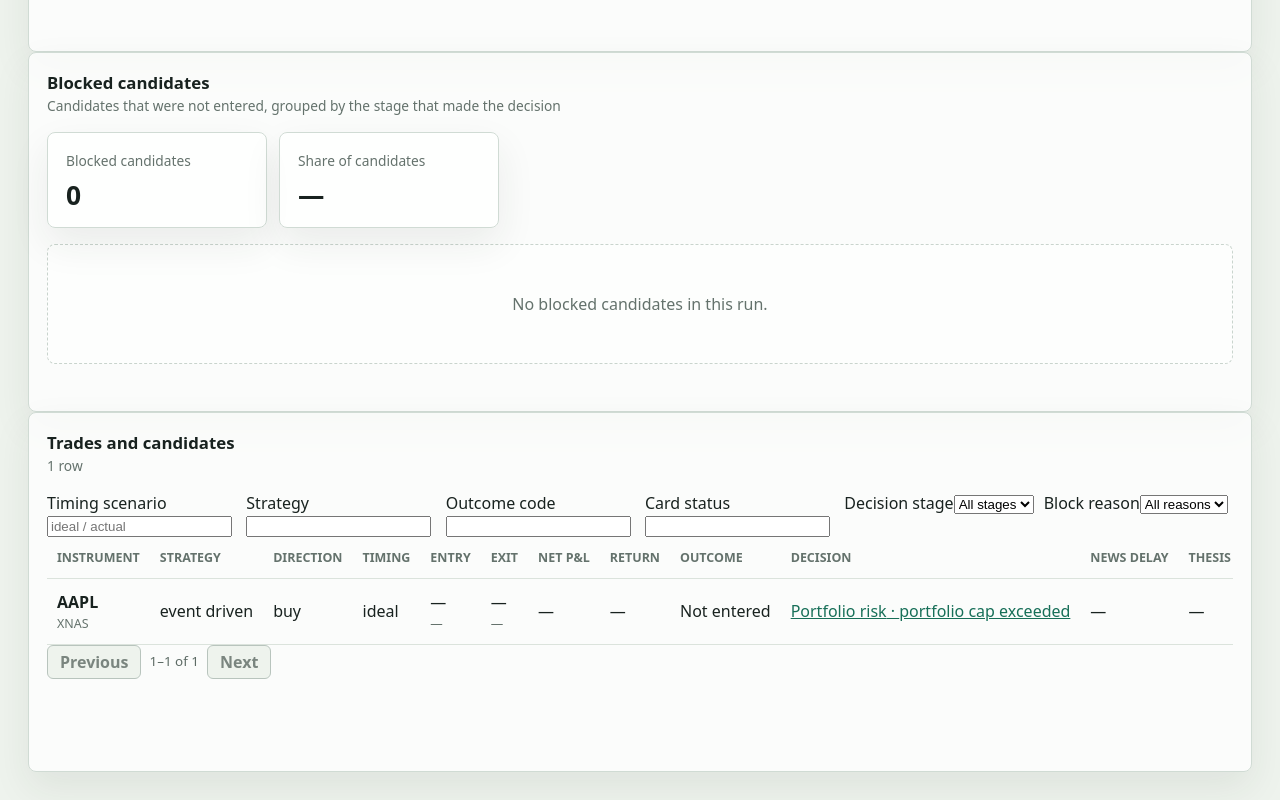
Scenario: BacktesterTab › uses the recorded check for exact portfolio-risk prose
This screenshot has width=1280, height=800.
(page scrolled)
Click the button "Portfolio risk · portfolio cap exceeded" at (931, 611), box 791,600 -> 1070,622
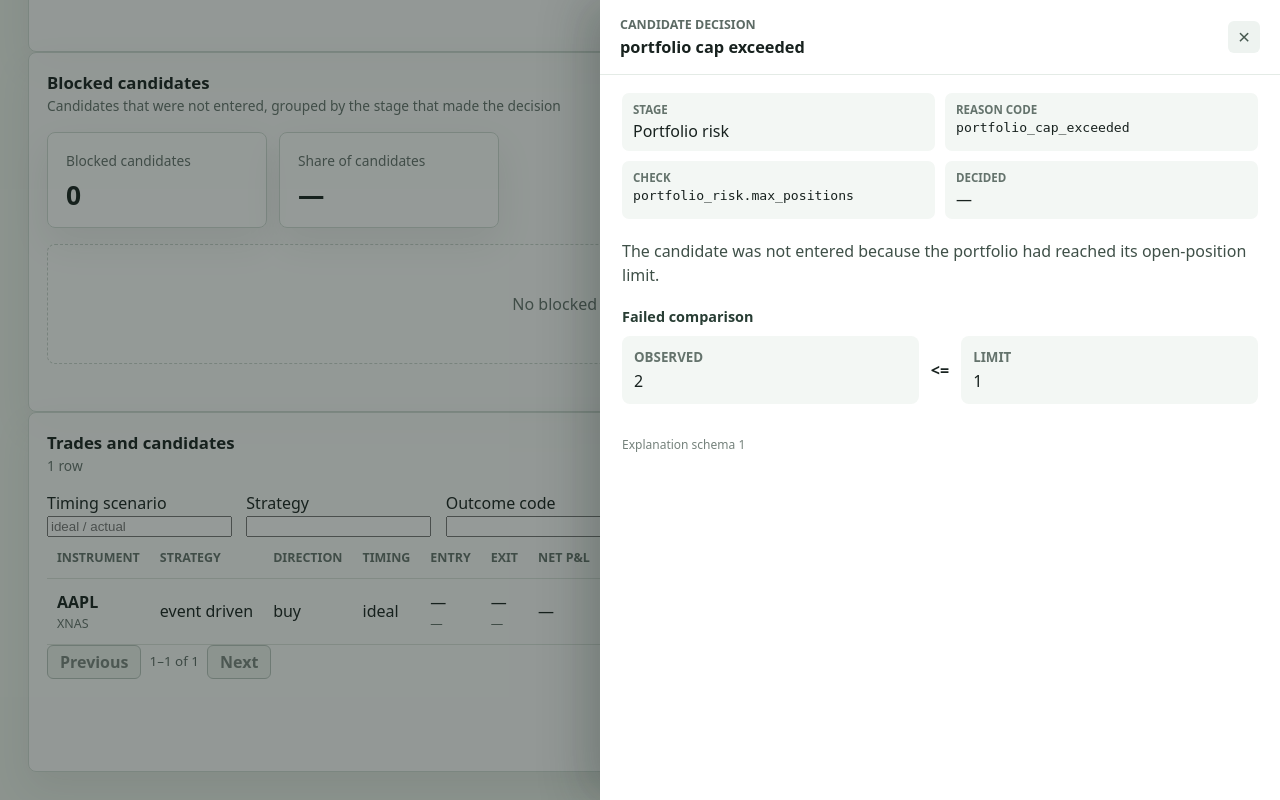
Check: the dialog shows "portfolio had reached its open-position limit", box 622,240 -> 1246,286
